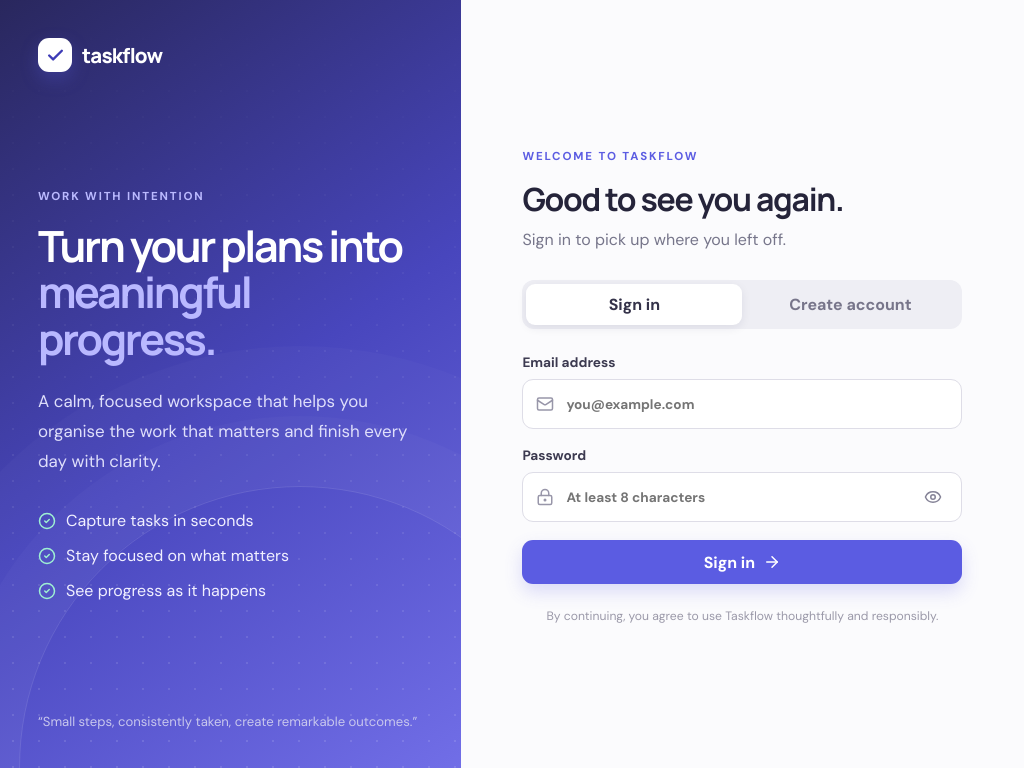
Test case: AuthScreen › surfaces an authentication error
Type "alex@example.com" into the field labelled "Email address" at point(756, 404), box left=564, top=394, right=948, bottom=414
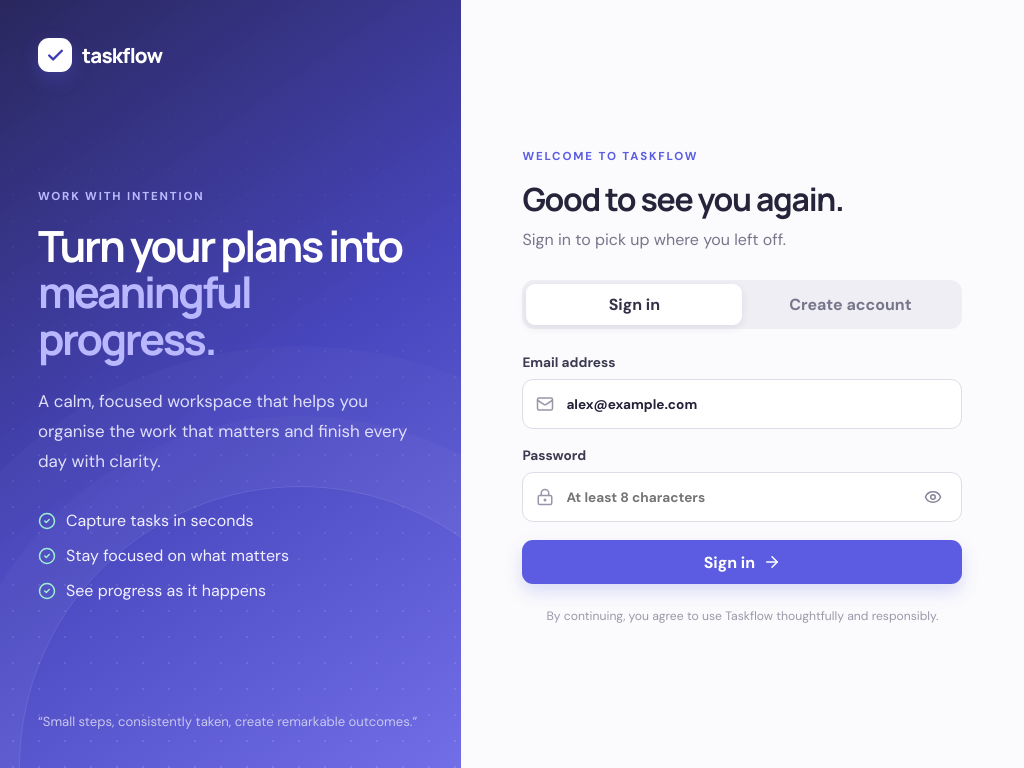
Type "wrong-password" into the password field labelled "Password" at point(736, 497), box left=564, top=488, right=908, bottom=506
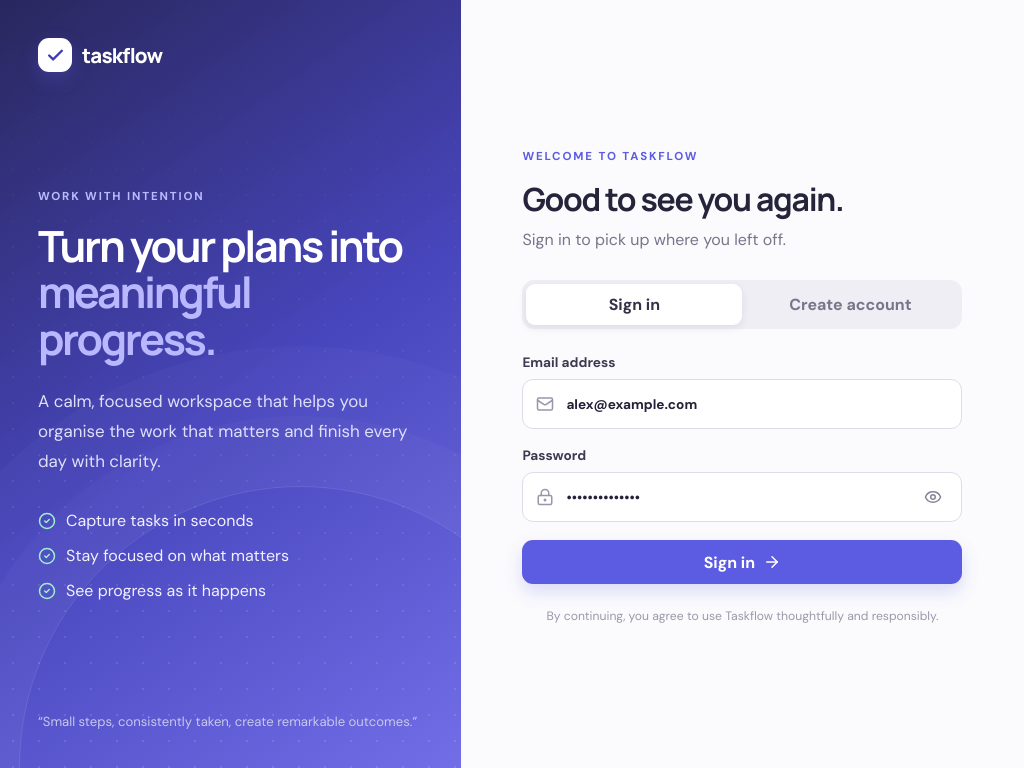
Click the button "Sign in" below "Password" at point(742, 562), box left=522, top=540, right=962, bottom=584
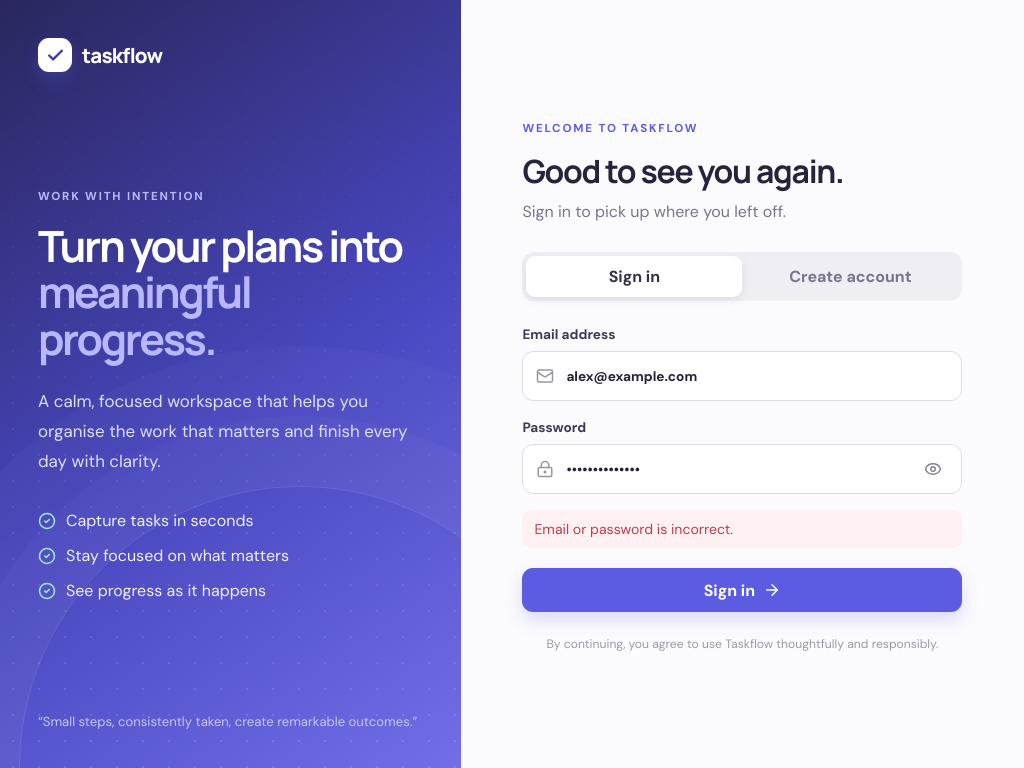
Result: the message reads "Email or password is incorrect." at left=534, top=520, right=733, bottom=538
